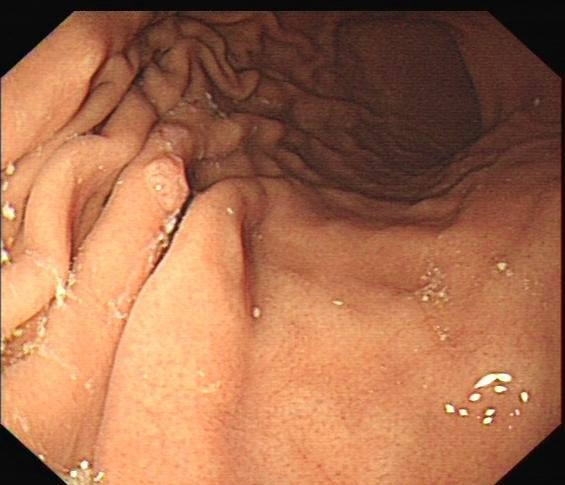Polyp: (140, 151, 193, 218)
